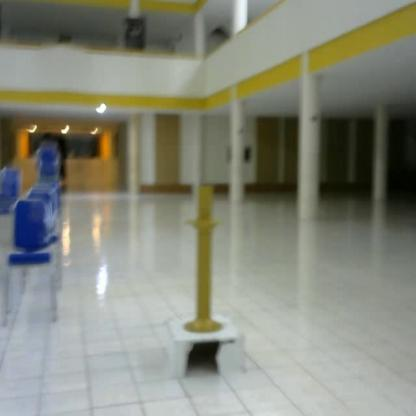pole: (178, 179, 237, 338)
